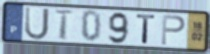0: (81, 9, 103, 44)
9: (107, 11, 130, 45)
P: (160, 13, 187, 46)
T: (53, 8, 76, 41), (135, 13, 157, 45)
U: (24, 6, 51, 42)
